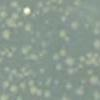white: (0, 30, 13, 41), (89, 75, 100, 88), (42, 87, 52, 100), (9, 83, 19, 95), (73, 87, 86, 96), (22, 6, 32, 17), (64, 81, 75, 91), (0, 79, 10, 90), (42, 78, 53, 88), (91, 38, 100, 50), (37, 53, 49, 62), (35, 86, 44, 98), (58, 29, 68, 39), (66, 66, 76, 76), (54, 62, 64, 72), (40, 39, 50, 49), (91, 58, 100, 69), (29, 53, 40, 62), (92, 88, 100, 100), (18, 80, 26, 92), (65, 57, 75, 66), (58, 47, 67, 57), (4, 17, 15, 25), (80, 78, 91, 86), (6, 72, 14, 83), (29, 86, 37, 97), (41, 6, 50, 15), (61, 91, 70, 100), (52, 79, 61, 88), (52, 54, 61, 63), (20, 47, 29, 56), (40, 48, 49, 57), (49, 5, 59, 13), (70, 22, 78, 32), (10, 12, 20, 20), (26, 79, 36, 87), (8, 1, 19, 8), (92, 26, 100, 35), (24, 23, 32, 32), (30, 36, 38, 45), (7, 23, 18, 29), (14, 94, 25, 100), (92, 52, 100, 60), (57, 6, 65, 14), (0, 10, 8, 18), (17, 20, 25, 28), (34, 31, 42, 39), (31, 71, 39, 79), (72, 0, 81, 7), (26, 45, 33, 54), (16, 72, 25, 79), (39, 67, 46, 76), (36, 79, 43, 88), (0, 93, 10, 99), (64, 35, 71, 43), (59, 16, 67, 23), (65, 5, 73, 12), (79, 55, 87, 62), (72, 66, 80, 73), (2, 46, 9, 54), (6, 51, 13, 59), (85, 59, 94, 65), (78, 84, 87, 90), (87, 70, 94, 77), (11, 47, 18, 54), (10, 68, 17, 75), (83, 23, 89, 31), (15, 6, 23, 12), (3, 66, 11, 72), (27, 68, 33, 76), (36, 1, 43, 7), (44, 0, 50, 7), (56, 0, 63, 6), (86, 52, 92, 59), (64, 10, 70, 17), (77, 63, 84, 69), (43, 18, 49, 25), (35, 9, 40, 17), (48, 0, 58, 4), (95, 20, 100, 28), (0, 23, 6, 29), (0, 51, 6, 57), (21, 67, 27, 73), (23, 71, 29, 77), (0, 57, 4, 65), (31, 13, 36, 18)
